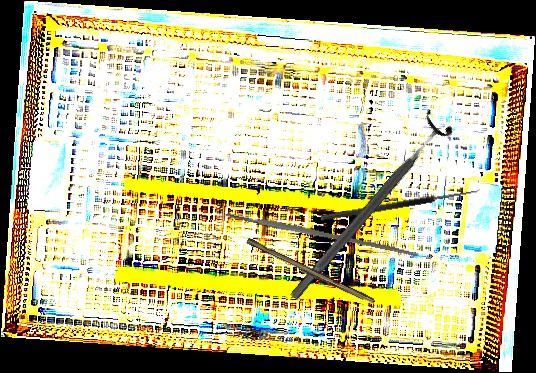Fixation Ring: (279, 107, 457, 310)
Hook Surgical: (318, 179, 482, 222)
Scalpel Handle: (223, 209, 420, 259), (244, 237, 377, 307)
